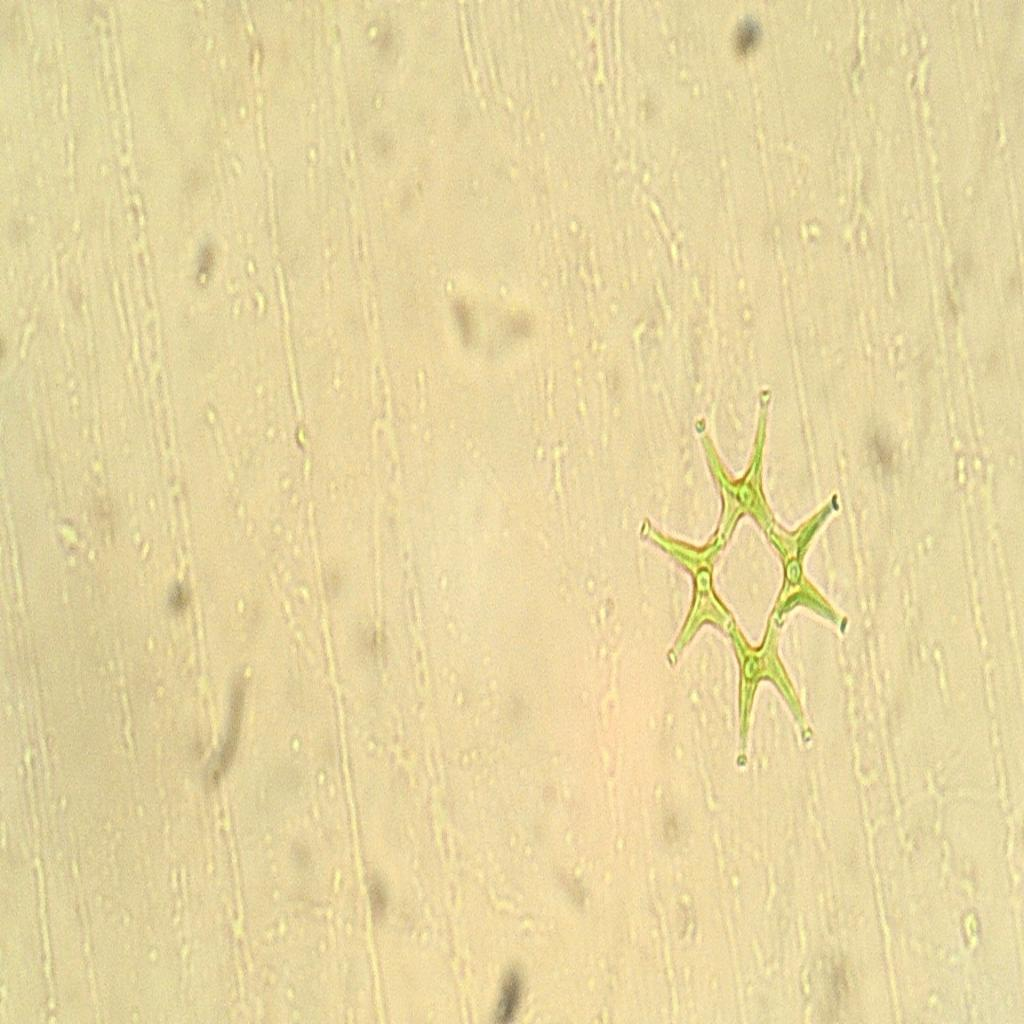Pediastrum_10: (628, 364, 864, 813)
